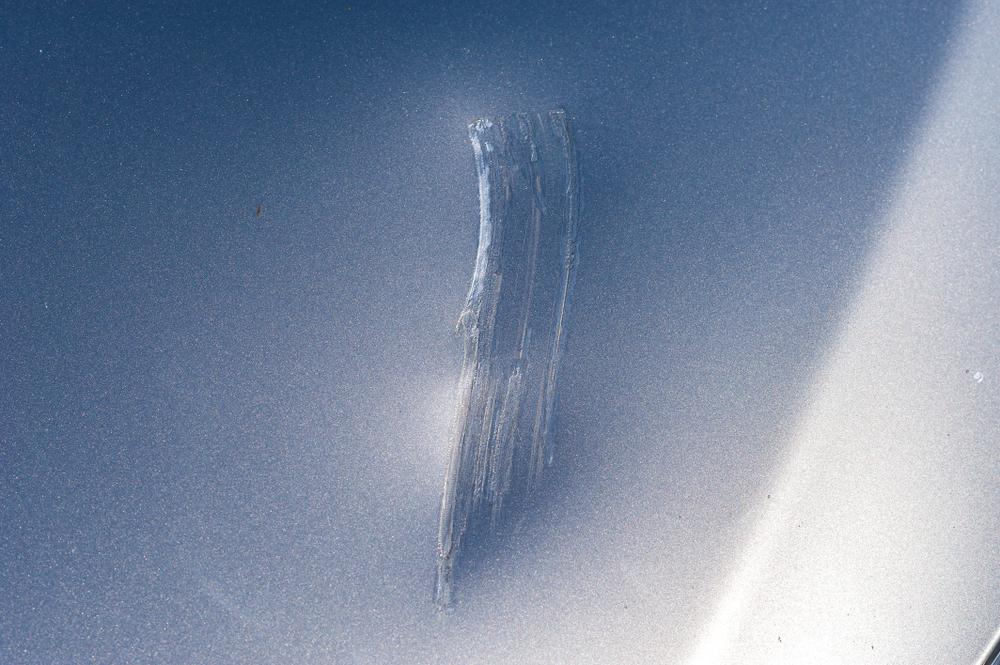scratch: (436, 110, 593, 599)
